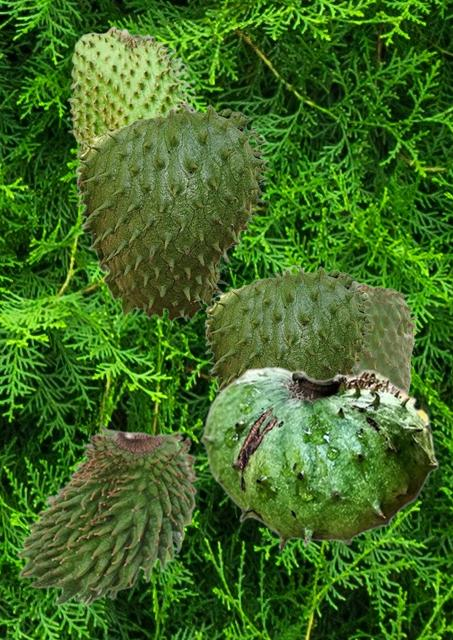guyabano: (200, 366, 438, 553), (75, 102, 272, 327), (15, 422, 198, 605), (204, 264, 374, 392), (66, 25, 200, 152), (350, 281, 417, 393)
